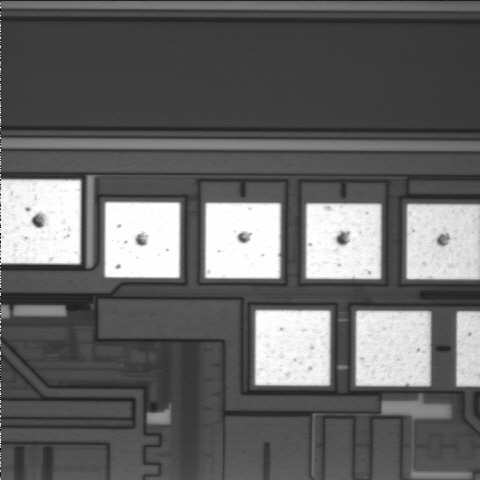pad: (104, 202, 180, 278), (205, 203, 281, 279), (306, 203, 381, 279), (255, 310, 330, 386), (356, 311, 431, 386)
